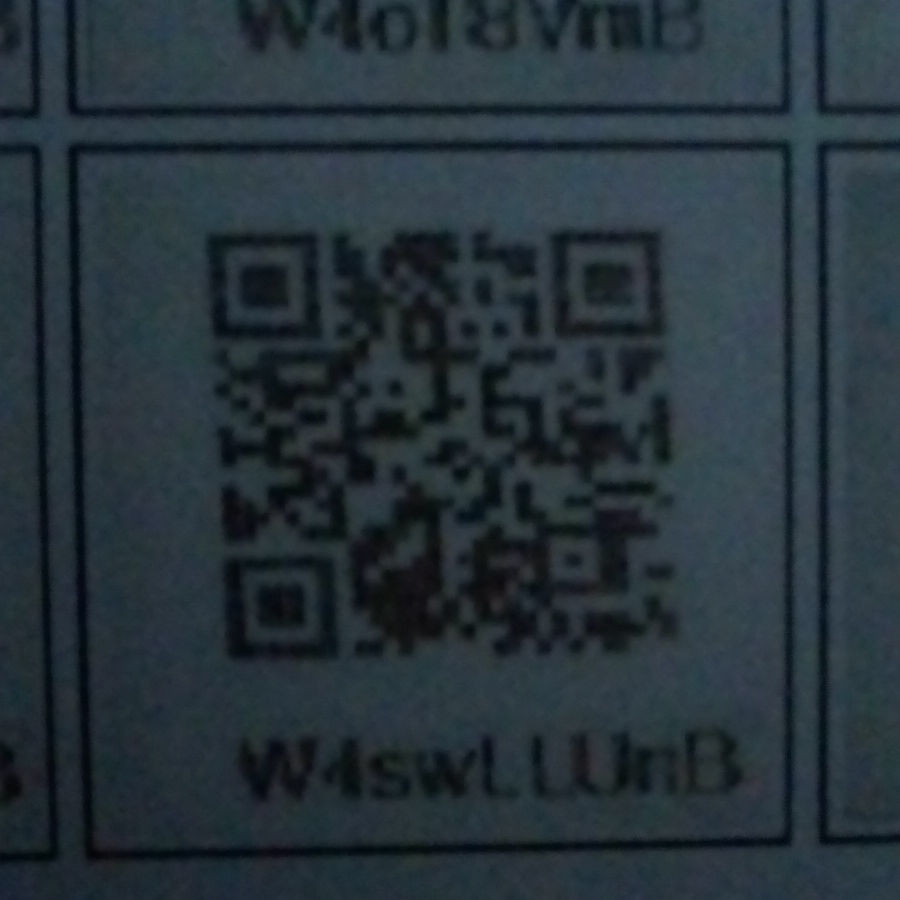QR-CODE: (179, 209, 733, 686)
